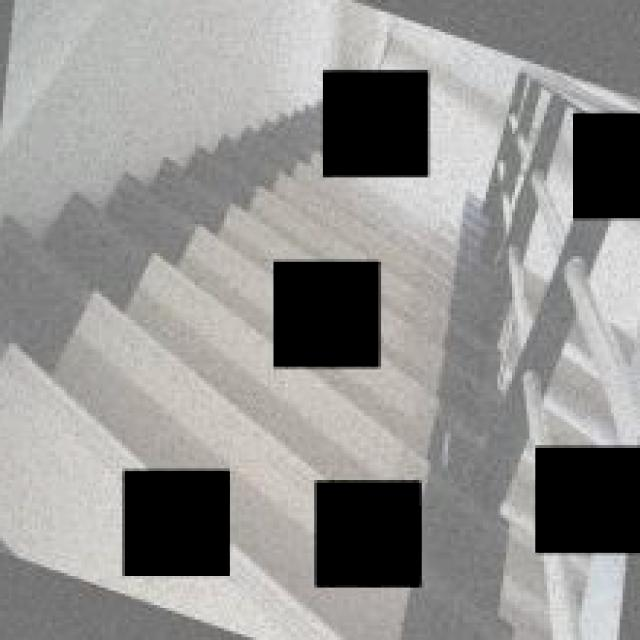downstair: (1, 243, 266, 464)
